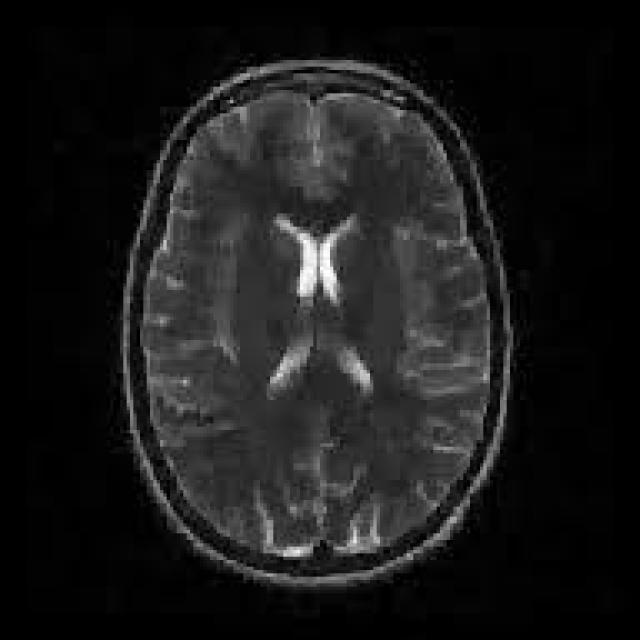notumor: (123, 60, 513, 583)
